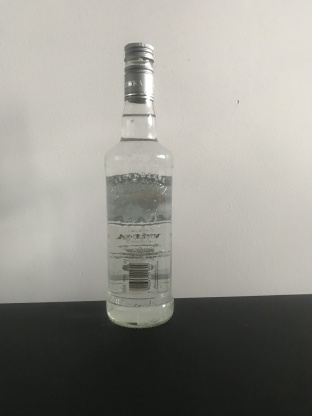nakretka: (122, 41, 155, 104), (169, 47, 191, 128)
